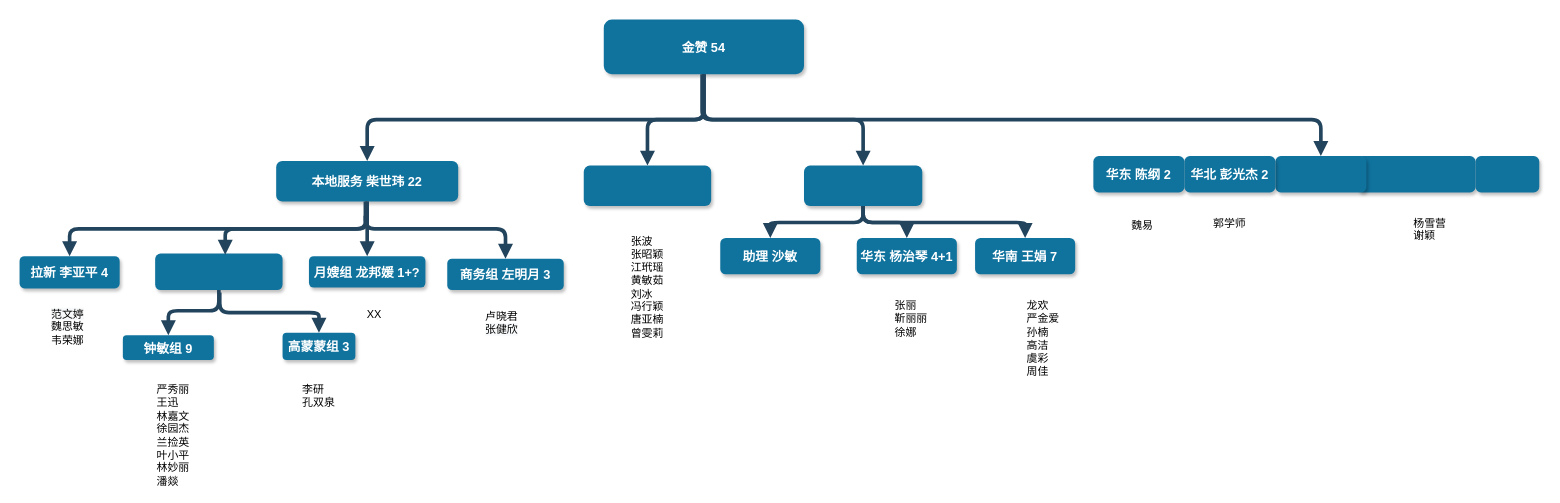
Some shapes in this 1560 by 503 pixel diagram are drawn without their labels. Each missing label, with the centre of its shape:
医务渠道 游新樾 13: the point at 863,187
华南 杜春娇: the point at 1321,175
团购 赵琦 9: the point at 648,187
广告执行 俞言 3: the point at 1417,175
莫金连: the point at 1507,175
运营组 刘璇 13: the point at 219,273
